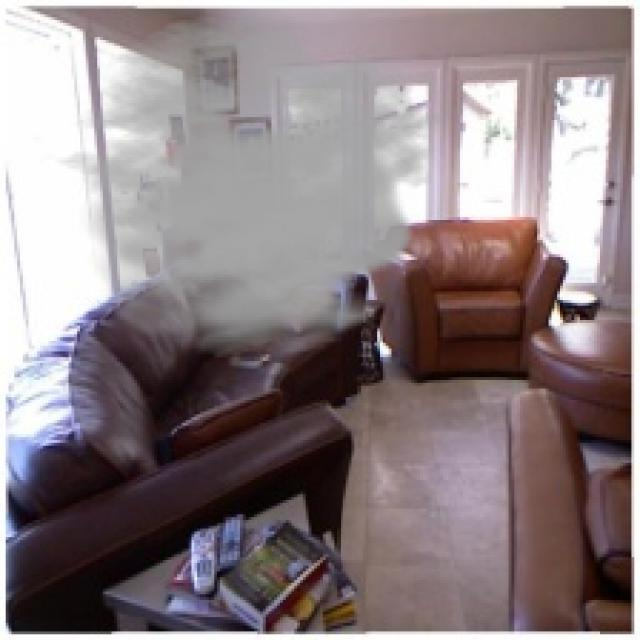Smoke: (37, 14, 449, 357)
